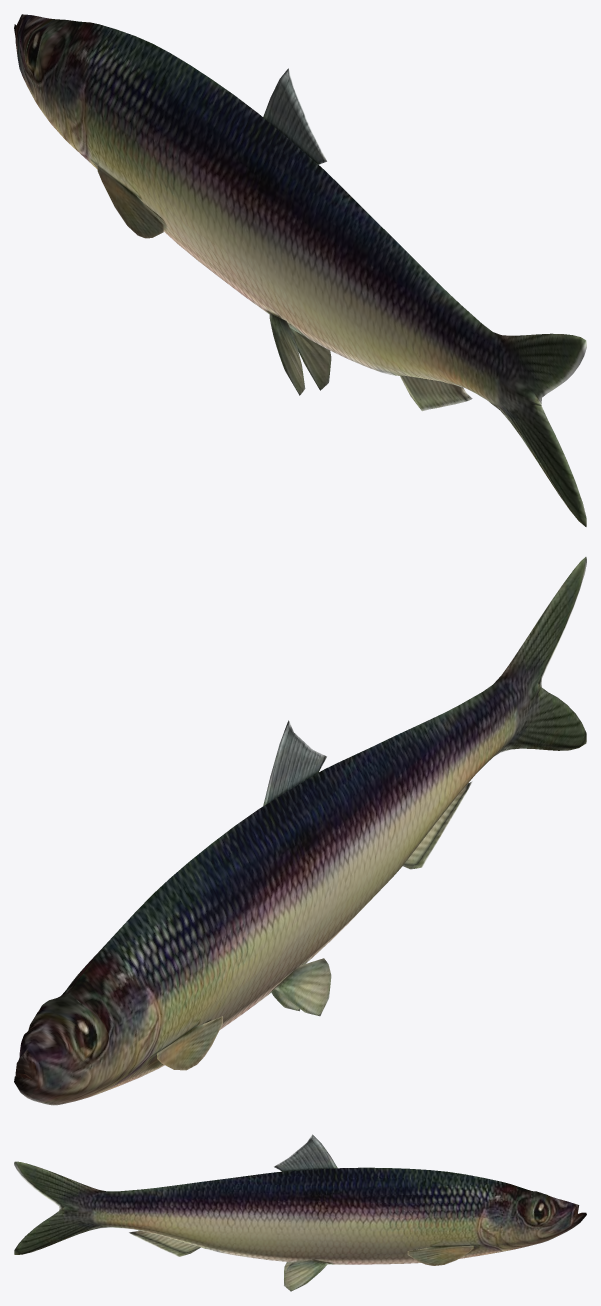
Rendered from sel.fbx.
The picture shows the model from 3 angles, top to bottom: view 1: azimuth 30°, elevation 25°; view 2: azimuth 150°, elevation 25°; view 3: azimuth 270°, elevation 25°; orthographic projection. The views are drawn at different scales.
Visible parts, largest first — view 1: Sel; view 2: Sel; view 3: Sel.
Boxes of the visible parts, <box> form: Sel: <box>14,14,586,526</box>; Sel: <box>14,557,586,1105</box>; Sel: <box>14,1134,586,1291</box>.
Bounding box in the file's own units: 49.43 × 187 × 626.
Materials: 1 (1 with a texture image).
